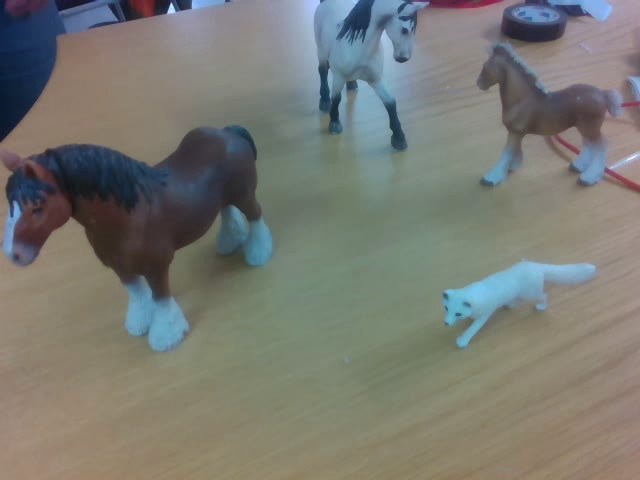toy: (1, 123, 274, 350), (477, 41, 639, 186), (440, 260, 599, 348)
